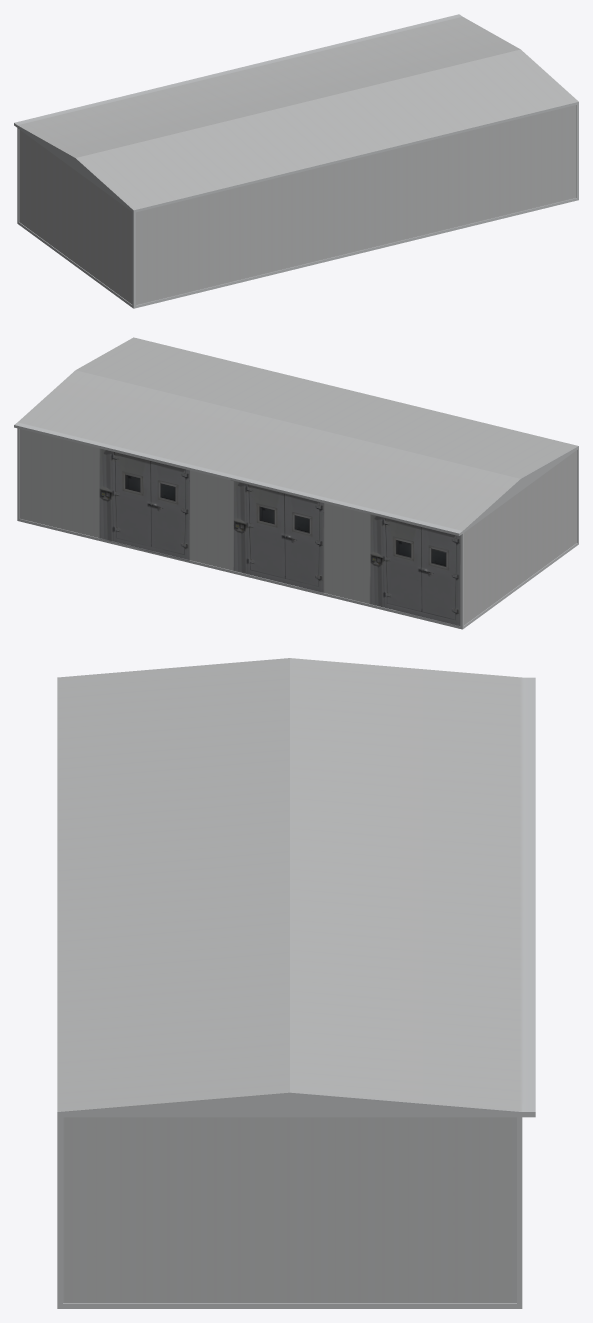
The picture shows the model from 3 angles, top to bottom: view 1: azimuth 30°, elevation 25°; view 2: azimuth 150°, elevation 25°; view 3: azimuth 270°, elevation 25°; orthographic projection. The views are drawn at different scales.
Parts seen in each view (by area): view 1: feiliaozhan; view 2: feiliaozhan; view 3: feiliaozhan.
Part boxes in pixels (<box>): feiliaozhan: <box>14,14,578,308</box>; feiliaozhan: <box>14,337,578,629</box>; feiliaozhan: <box>57,658,535,1308</box>.
Bounding box in the file's own units: 18.23 × 4.23 × 8.48.
1 material, 1 textured.
